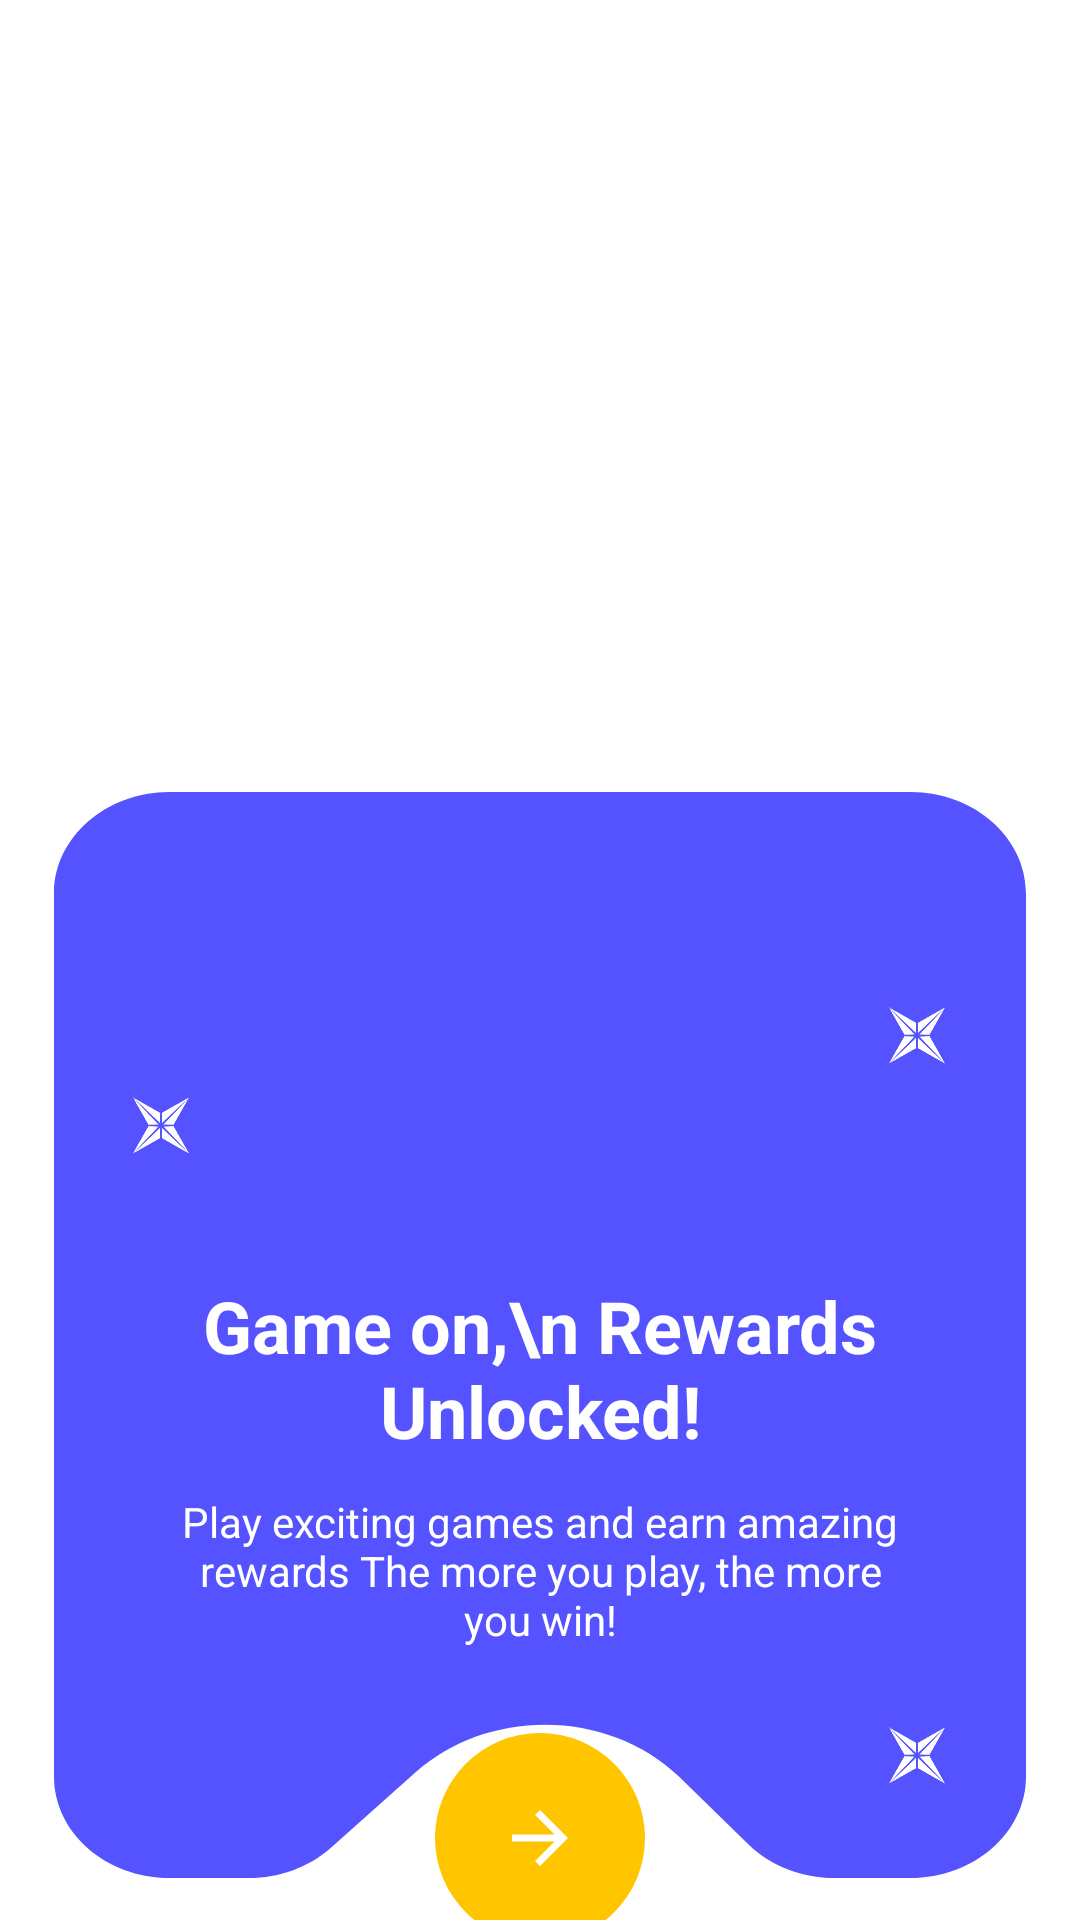

Named icons in this screenshot (1080 × 1920) and their bounding boxes, (x1, y1, x2, y2):
star: (889, 1007, 945, 1063), (133, 1097, 189, 1153), (889, 1727, 945, 1783)
